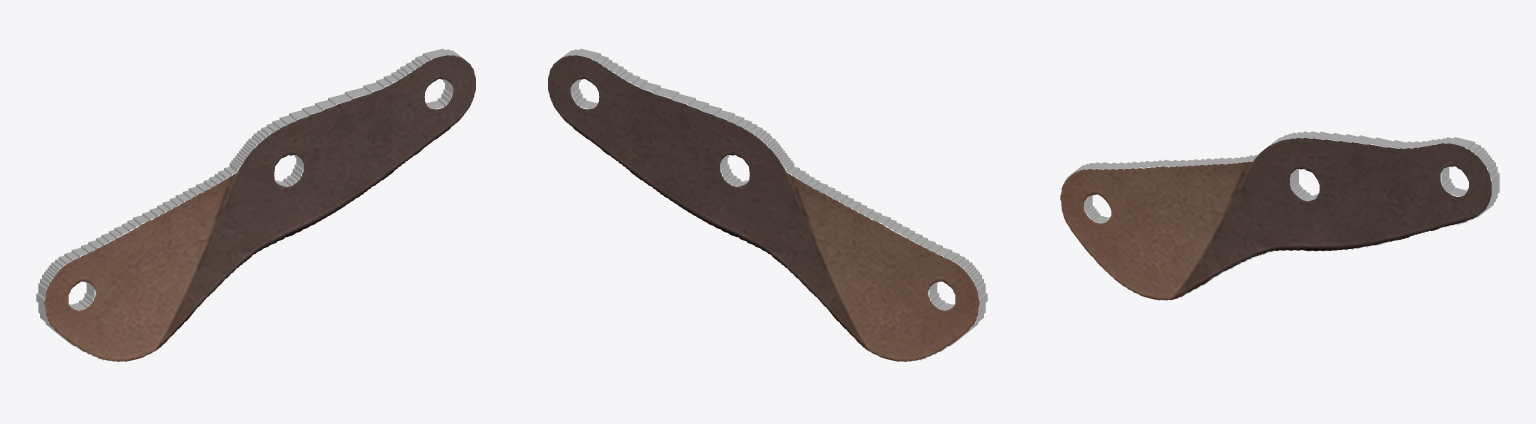
The model's file is RootRight.glb.
3 renders of one model, left to right at view 1: azimuth 30°, elevation 25°; view 2: azimuth 150°, elevation 25°; view 3: azimuth 330°, elevation 25°, orthographic.
Parts seen in each view (by area): view 1: PaperVolume; view 2: PaperVolume; view 3: PaperVolume.
Part boxes in pixels (left/top/right/bottom): PaperVolume: left=36, top=48, right=475, bottom=361; PaperVolume: left=548, top=48, right=987, bottom=361; PaperVolume: left=1060, top=131, right=1499, bottom=300.
Bounding box in the file's own units: 2.67 × 1.47 × 0.08.
Materials: 3 (2 with a texture image).
